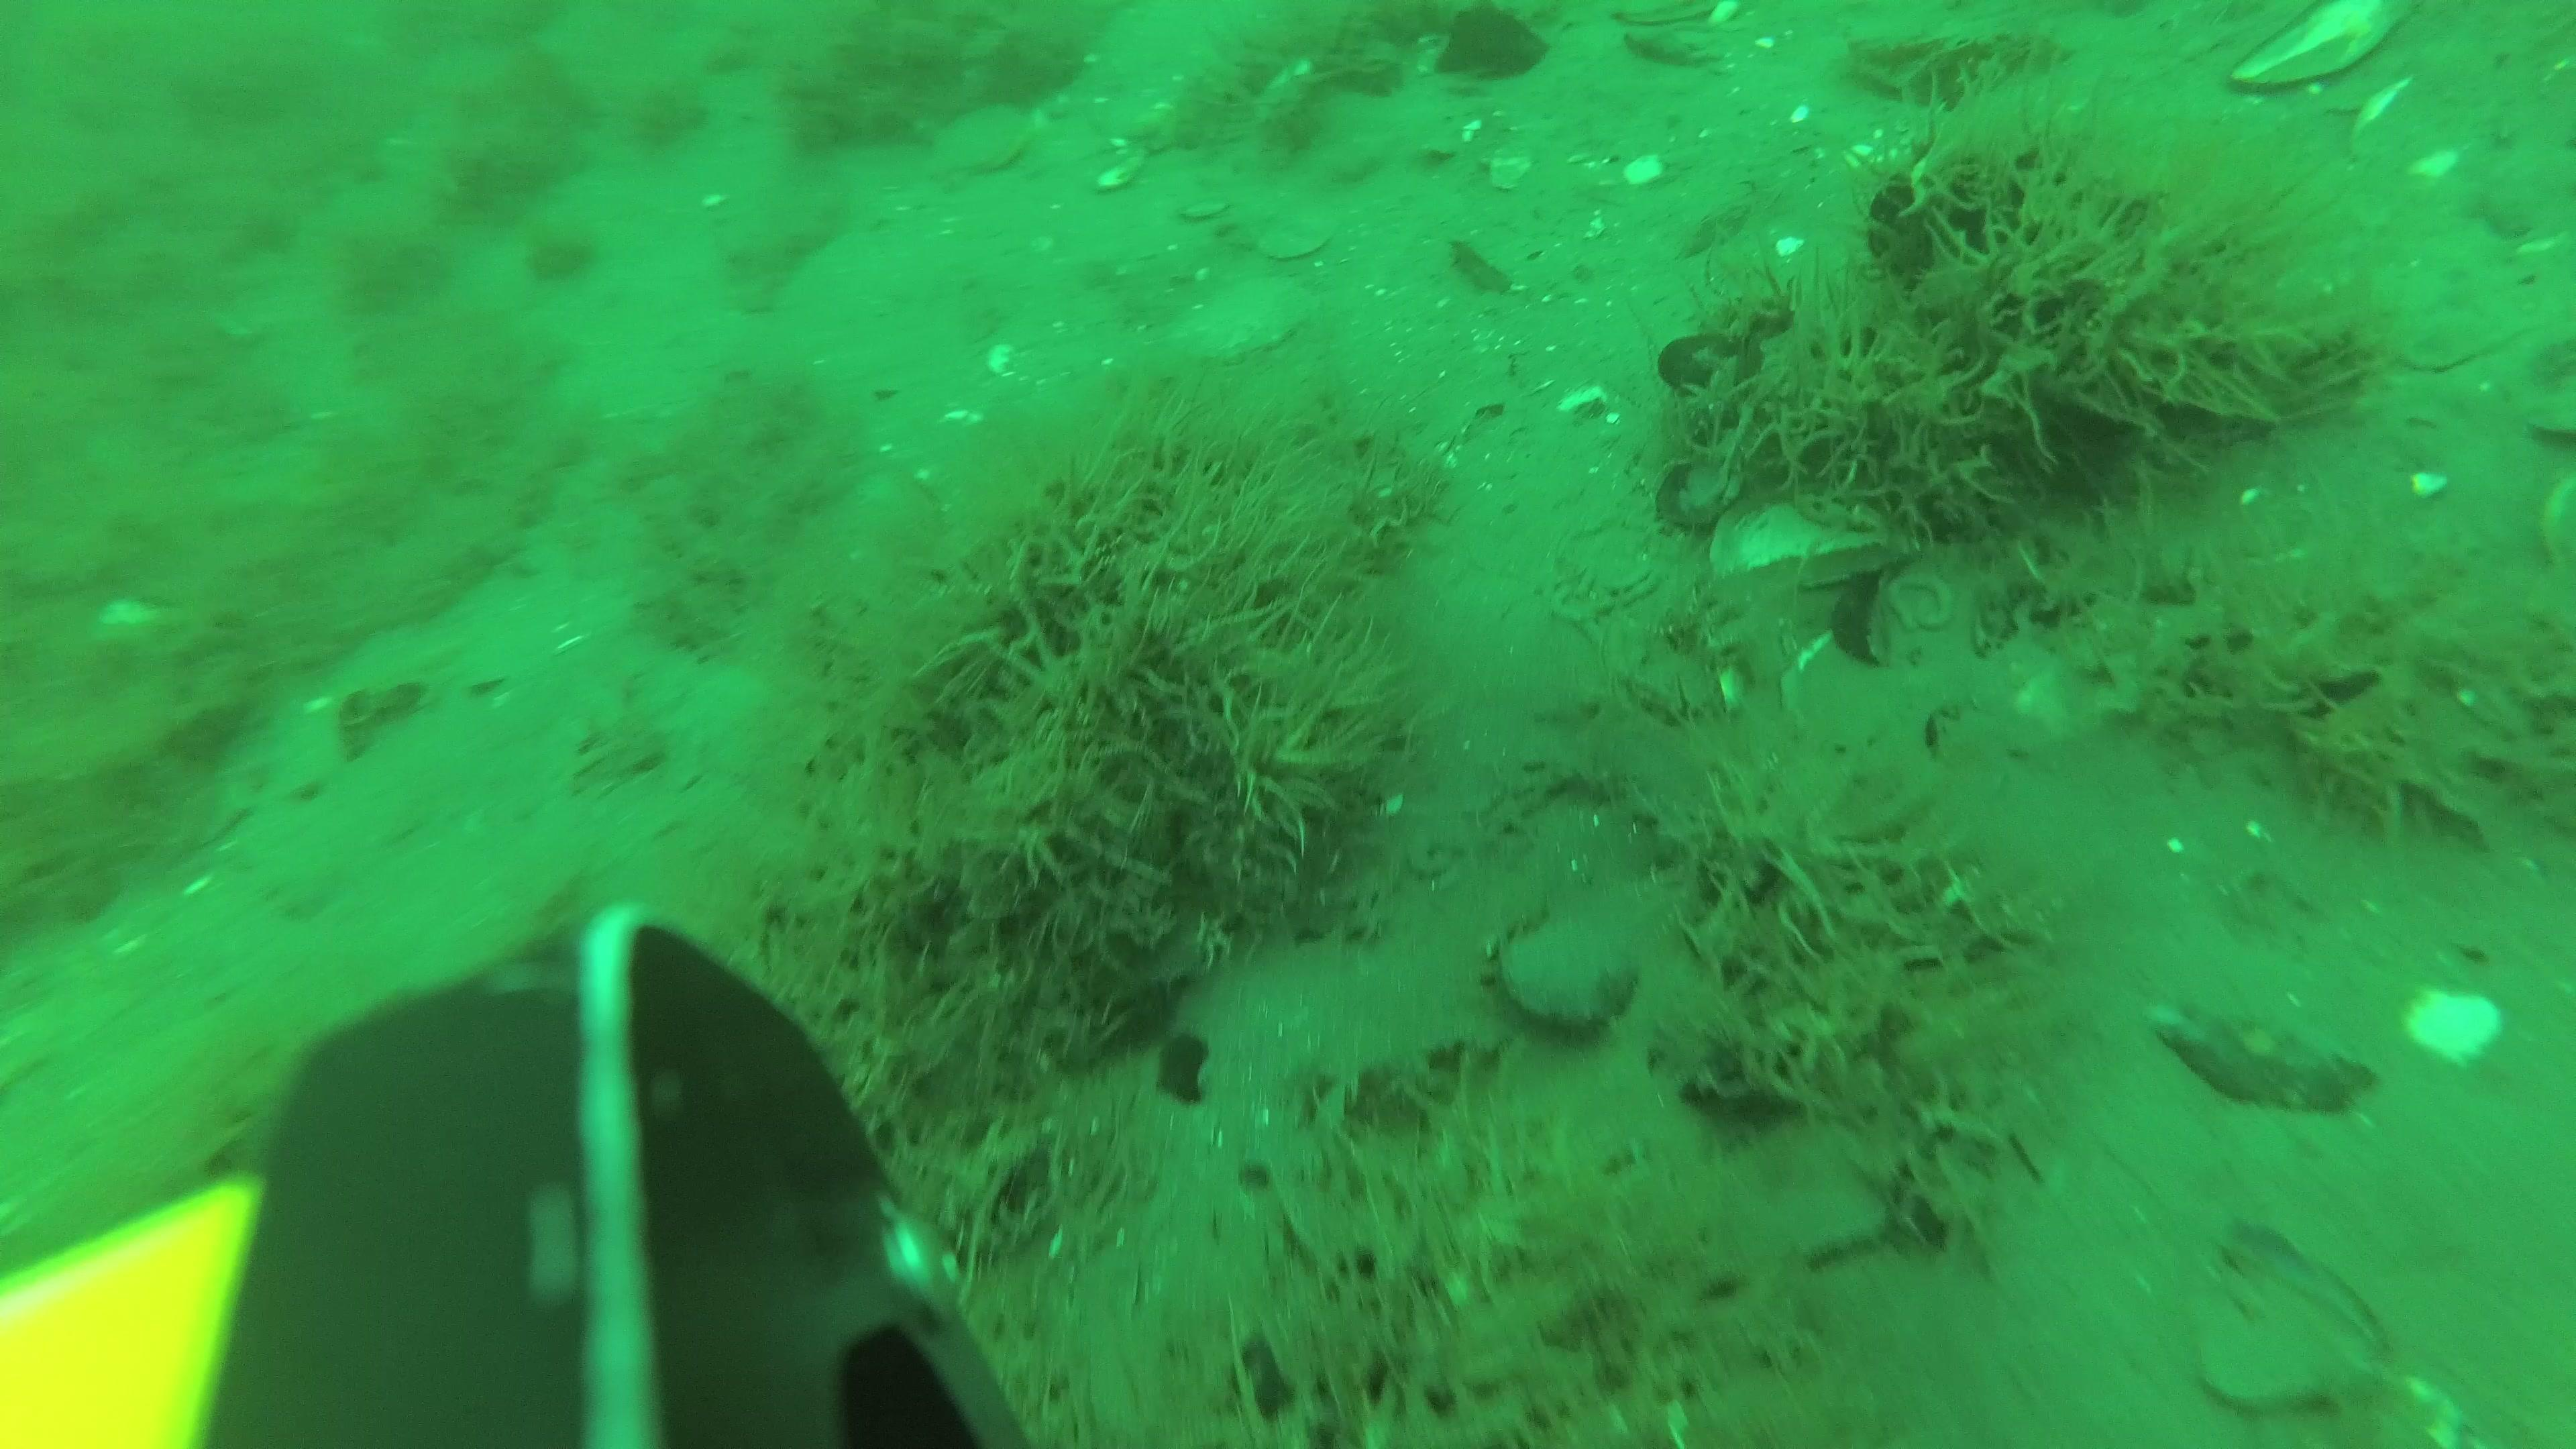scallop: (1177, 280, 1327, 363), (932, 103, 1035, 175), (1260, 214, 1332, 258)
